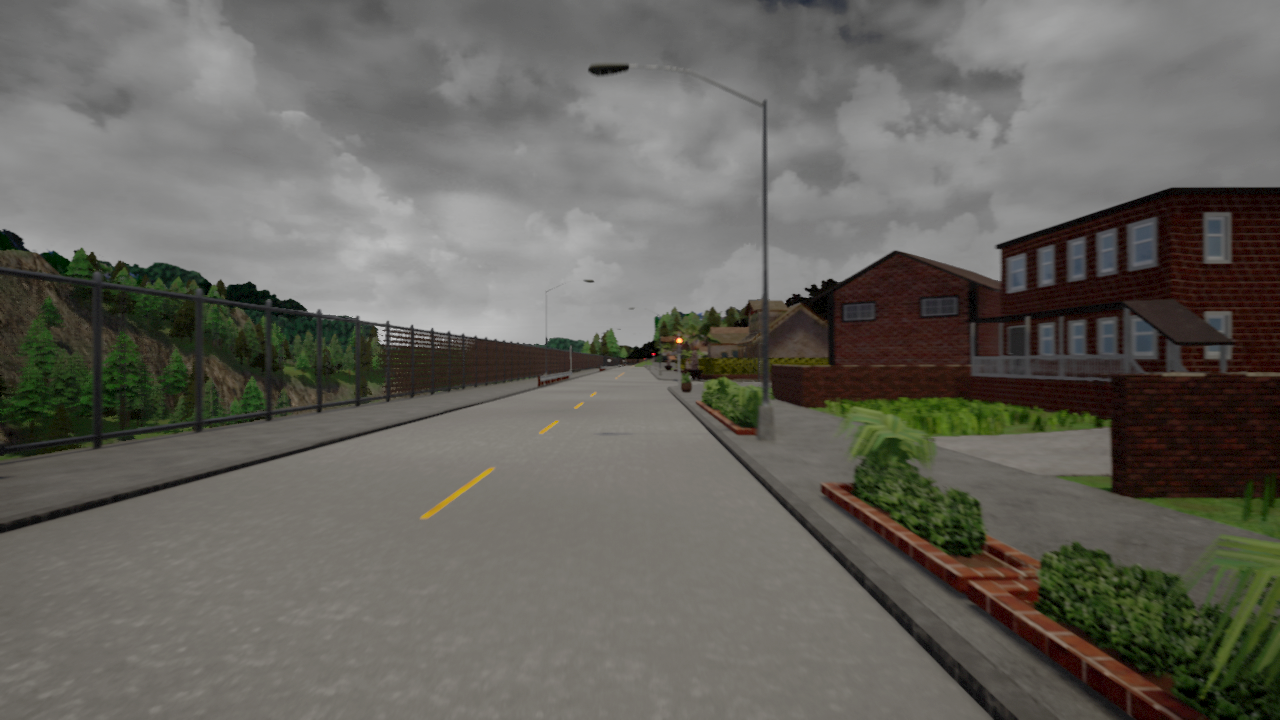red: (675, 336, 684, 354)
